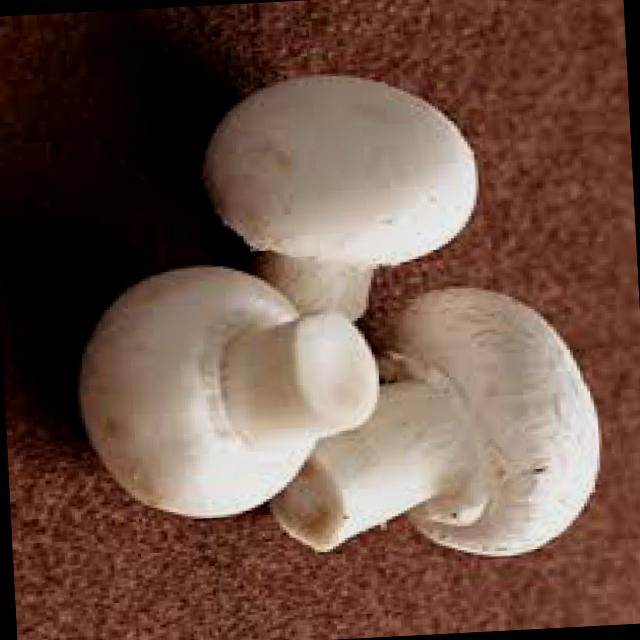Agaricus bisporus: (256, 284, 604, 568), (72, 257, 385, 526), (201, 67, 482, 329)
